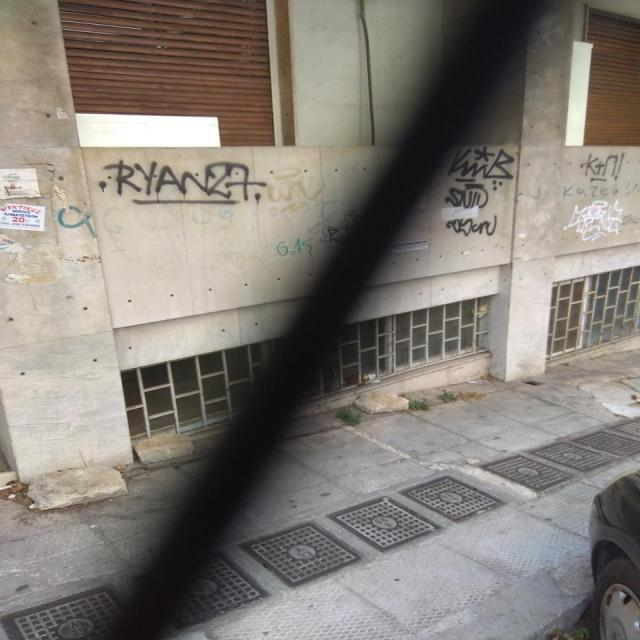nonspitting: (98, 158, 268, 204), (444, 147, 514, 236), (268, 166, 326, 212), (564, 202, 624, 240), (580, 154, 626, 182), (58, 206, 96, 237), (560, 184, 620, 197), (276, 238, 312, 257)
